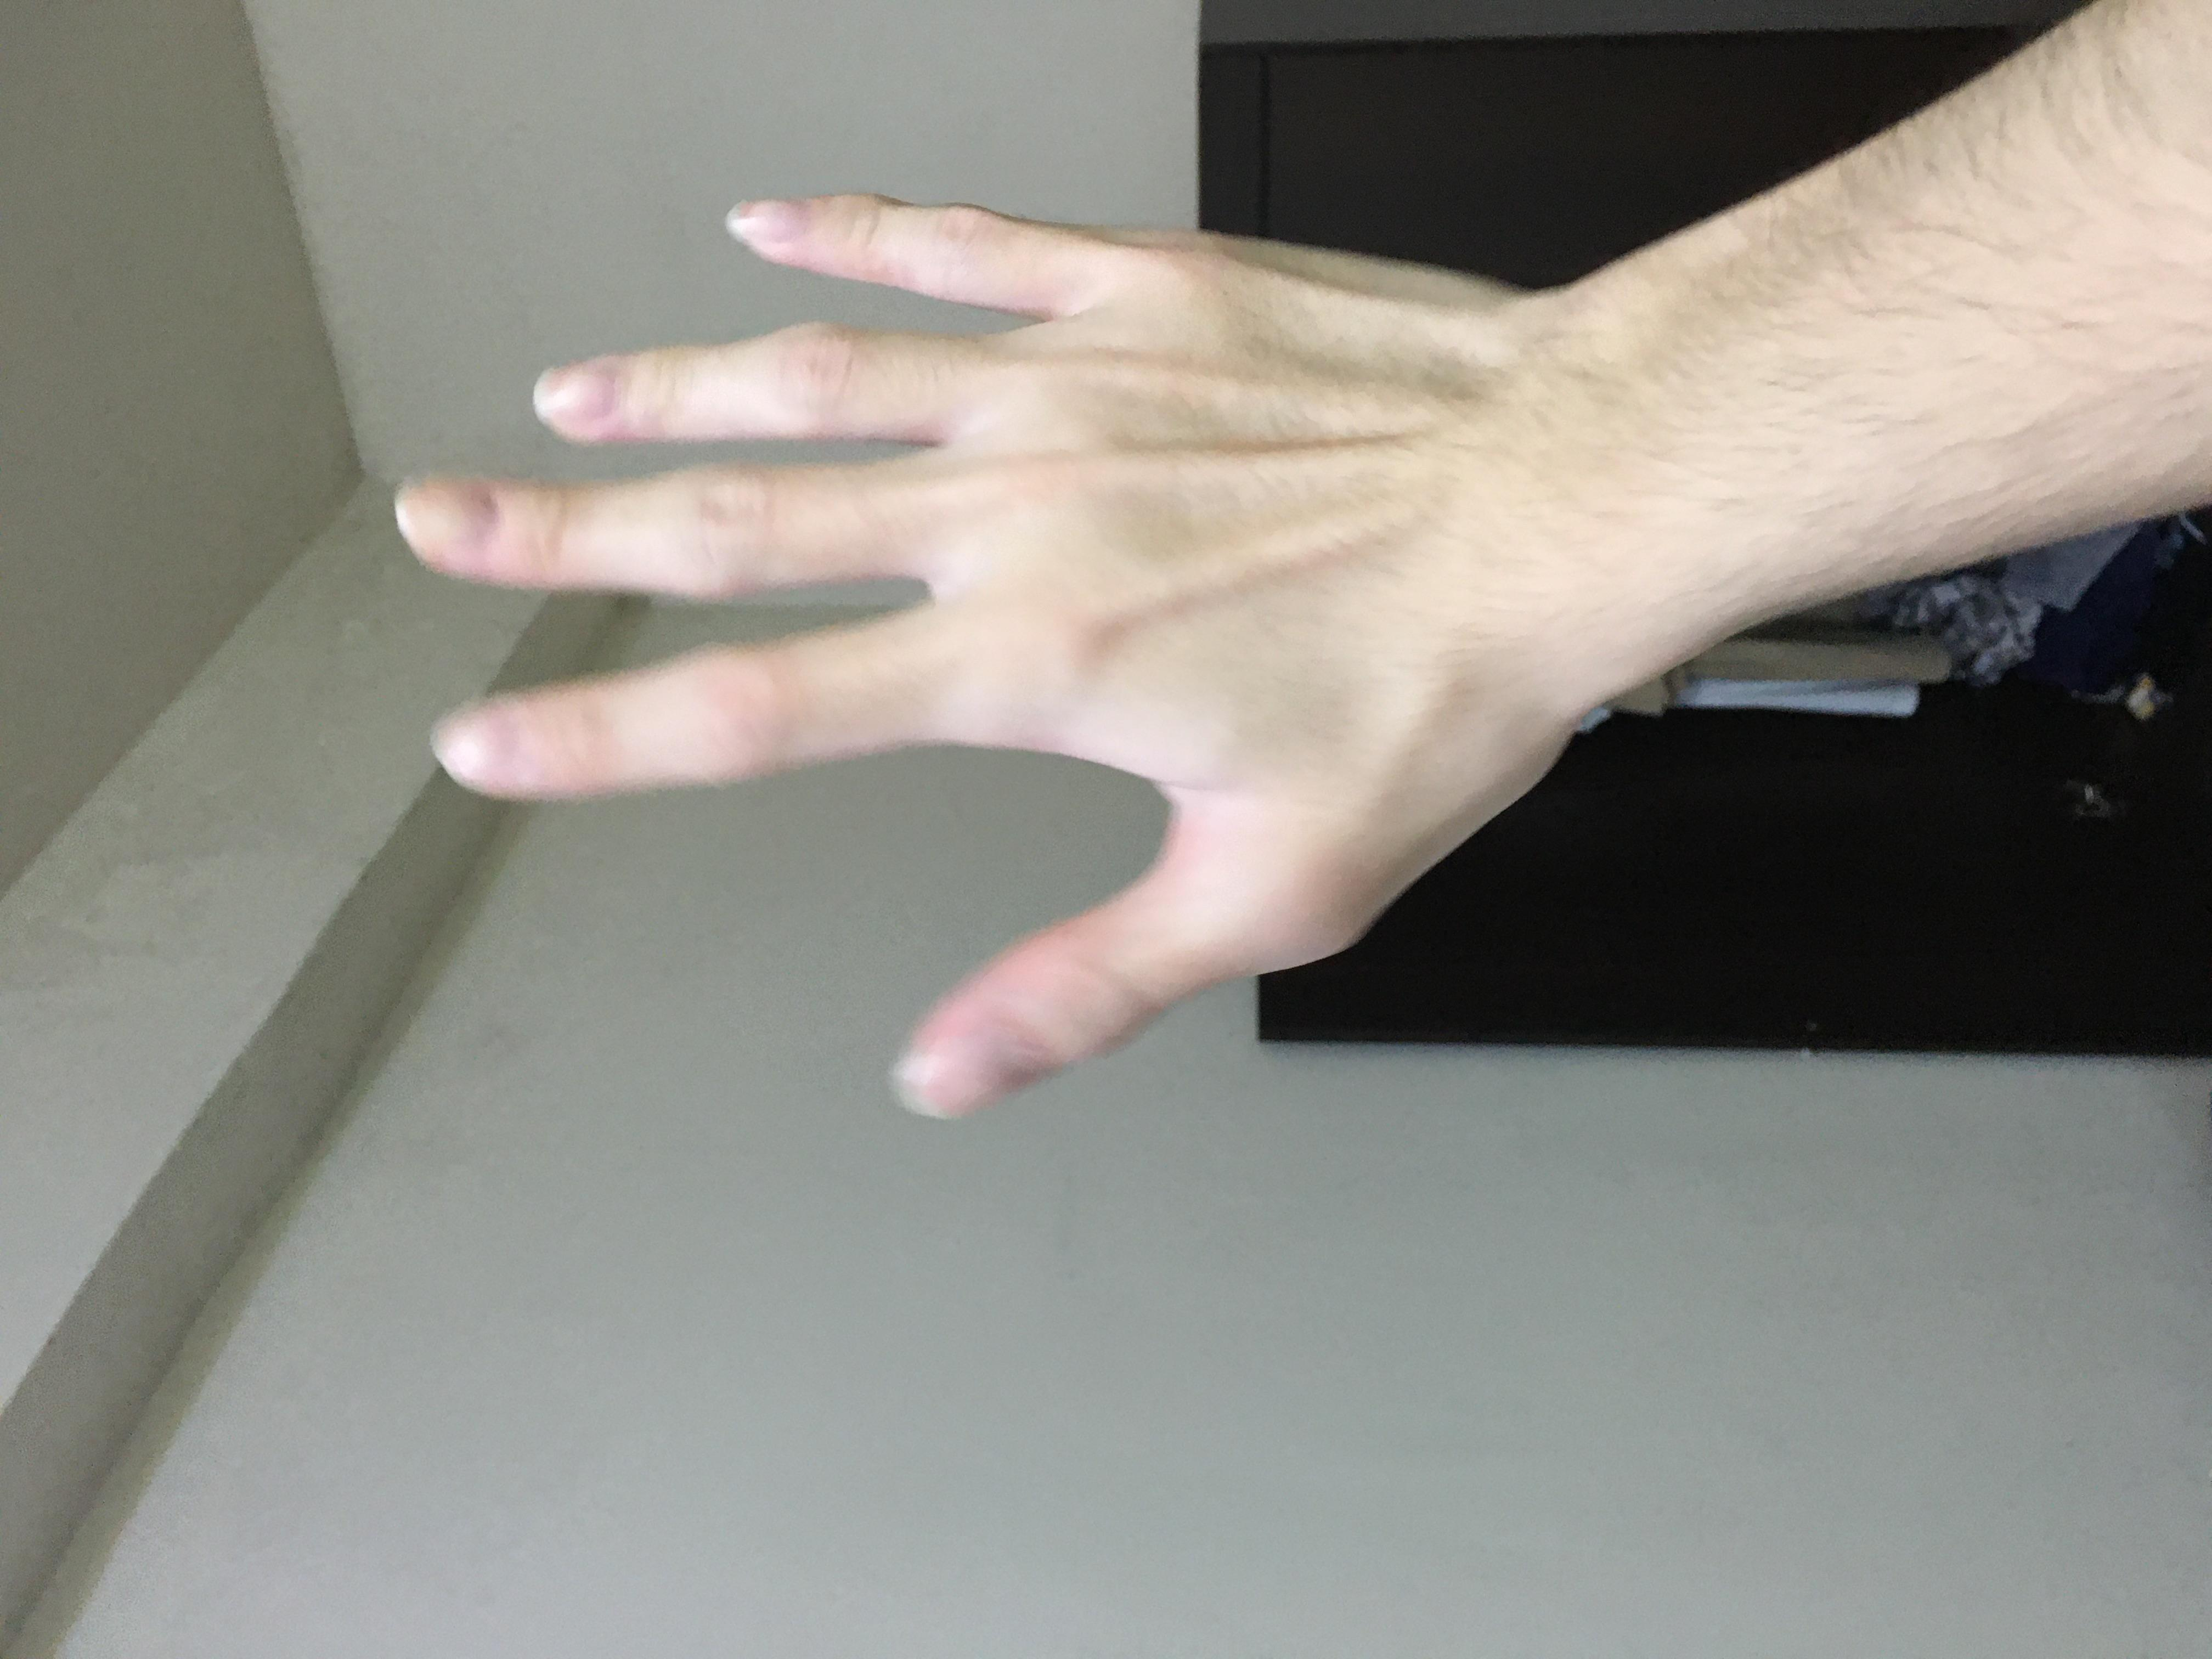hand: (718, 293, 1958, 1154)
